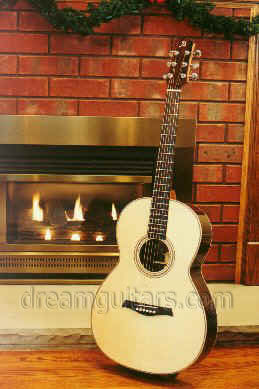guitar: (90, 34, 221, 376)
